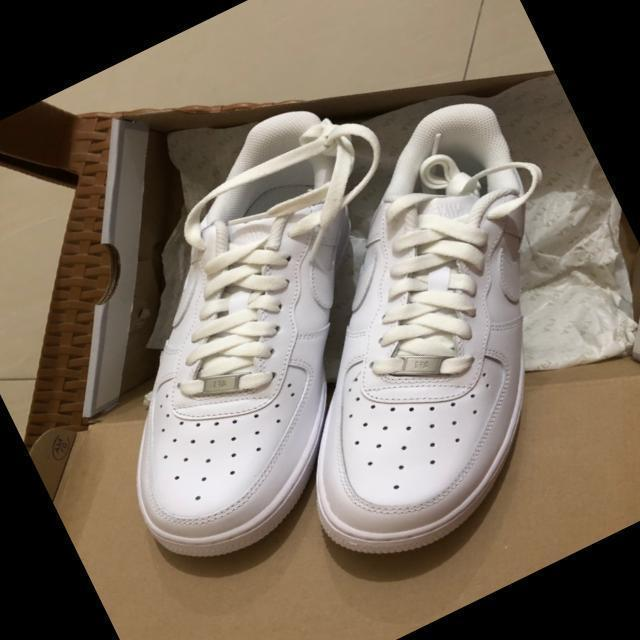nike original air force: (1, 85, 492, 588), (159, 82, 640, 590)
